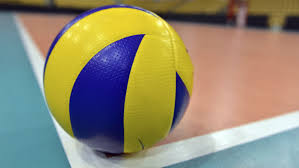ball: (43, 4, 194, 154)
